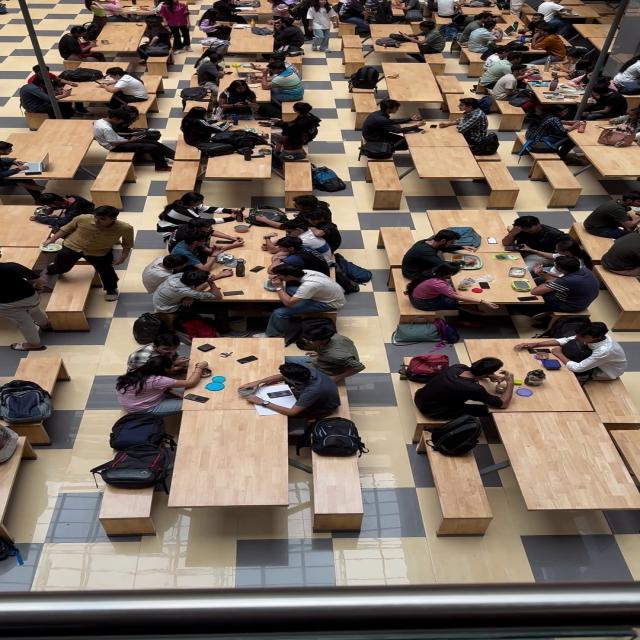Occupied: (388, 214, 615, 324), (461, 342, 598, 412), (39, 204, 138, 299), (23, 70, 161, 128), (182, 240, 297, 308), (179, 349, 291, 413), (2, 119, 108, 184), (240, 360, 342, 421), (414, 358, 510, 421), (114, 356, 205, 417), (248, 332, 364, 379), (92, 112, 177, 172), (265, 266, 347, 320), (401, 229, 478, 285), (205, 88, 287, 140), (409, 264, 498, 311), (528, 254, 600, 311), (127, 330, 207, 381), (178, 107, 256, 157), (73, 23, 147, 74), (155, 192, 241, 235), (150, 268, 231, 313), (381, 62, 447, 117), (410, 417, 503, 452), (522, 106, 582, 160), (360, 99, 424, 149), (520, 81, 585, 130), (167, 226, 244, 267), (265, 238, 333, 284), (523, 235, 593, 278), (0, 260, 51, 318), (425, 210, 510, 244), (24, 192, 96, 232), (438, 97, 491, 146), (584, 194, 640, 240), (269, 102, 322, 150), (0, 149, 48, 199), (287, 212, 342, 253), (257, 61, 304, 106), (132, 17, 173, 65), (578, 85, 628, 122), (531, 2, 607, 26), (389, 21, 444, 54), (362, 40, 422, 70), (489, 66, 538, 102), (58, 26, 105, 62), (547, 46, 594, 82), (280, 195, 332, 227), (158, 0, 191, 50), (305, 0, 337, 50), (601, 107, 640, 147), (264, 18, 305, 56), (223, 28, 274, 58), (217, 79, 258, 116), (558, 62, 603, 94), (465, 21, 507, 54), (528, 29, 568, 63), (336, 0, 372, 35), (194, 51, 227, 89), (201, 0, 246, 27), (26, 65, 70, 92), (610, 56, 640, 94), (573, 25, 611, 53), (484, 48, 532, 70), (92, 0, 130, 27), (442, 49, 478, 77), (368, 23, 418, 42), (271, 0, 300, 26), (117, 6, 161, 22), (432, 0, 464, 20), (198, 16, 221, 34)
Unoccupied: (94, 408, 366, 536), (493, 412, 638, 514), (167, 409, 290, 510), (420, 426, 493, 536), (402, 123, 489, 200), (503, 13, 603, 77), (310, 450, 364, 532), (567, 127, 640, 181), (96, 480, 158, 536), (0, 437, 30, 549), (583, 373, 640, 428), (203, 153, 273, 192), (44, 268, 97, 318), (593, 261, 639, 316), (0, 205, 57, 247), (533, 159, 585, 204), (472, 160, 521, 207), (107, 76, 167, 113), (607, 428, 640, 495), (10, 357, 67, 395), (89, 161, 135, 204), (367, 2, 430, 33), (287, 313, 340, 345), (401, 356, 453, 388), (368, 162, 403, 207), (164, 158, 204, 192), (569, 223, 602, 264), (4, 421, 52, 447), (351, 91, 382, 129), (380, 226, 414, 255), (283, 160, 312, 192), (436, 74, 467, 103), (454, 0, 510, 16), (441, 90, 476, 114), (230, 2, 266, 24), (342, 48, 366, 76), (459, 44, 488, 65), (23, 109, 49, 131), (339, 24, 364, 45), (145, 58, 169, 77), (144, 76, 165, 94)
